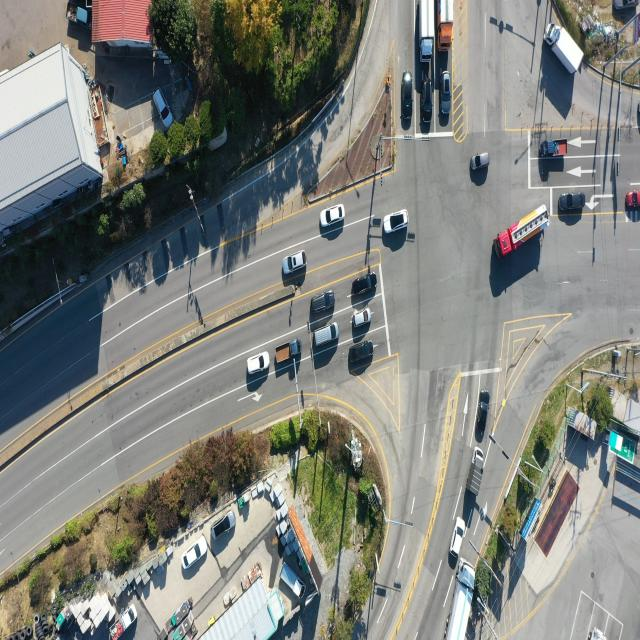car: (180, 536, 208, 570), (476, 390, 491, 442), (153, 88, 172, 129), (403, 72, 415, 130), (312, 322, 338, 348), (450, 516, 466, 558), (212, 509, 235, 538), (348, 340, 374, 365), (381, 211, 407, 235), (352, 274, 377, 298), (312, 291, 338, 314), (320, 205, 344, 228), (282, 251, 306, 274), (247, 350, 270, 374), (423, 76, 434, 125), (558, 191, 584, 211), (442, 74, 453, 120), (352, 309, 372, 328), (470, 152, 489, 171), (615, 0, 639, 11), (626, 190, 640, 208)
medium_truck: (499, 203, 553, 260), (444, 566, 474, 640), (547, 22, 584, 75), (434, 0, 454, 53), (420, 0, 436, 61)
small_truck: (105, 603, 139, 640), (468, 447, 488, 499), (280, 564, 307, 601), (65, 2, 90, 28), (275, 340, 301, 364), (541, 139, 568, 158)
